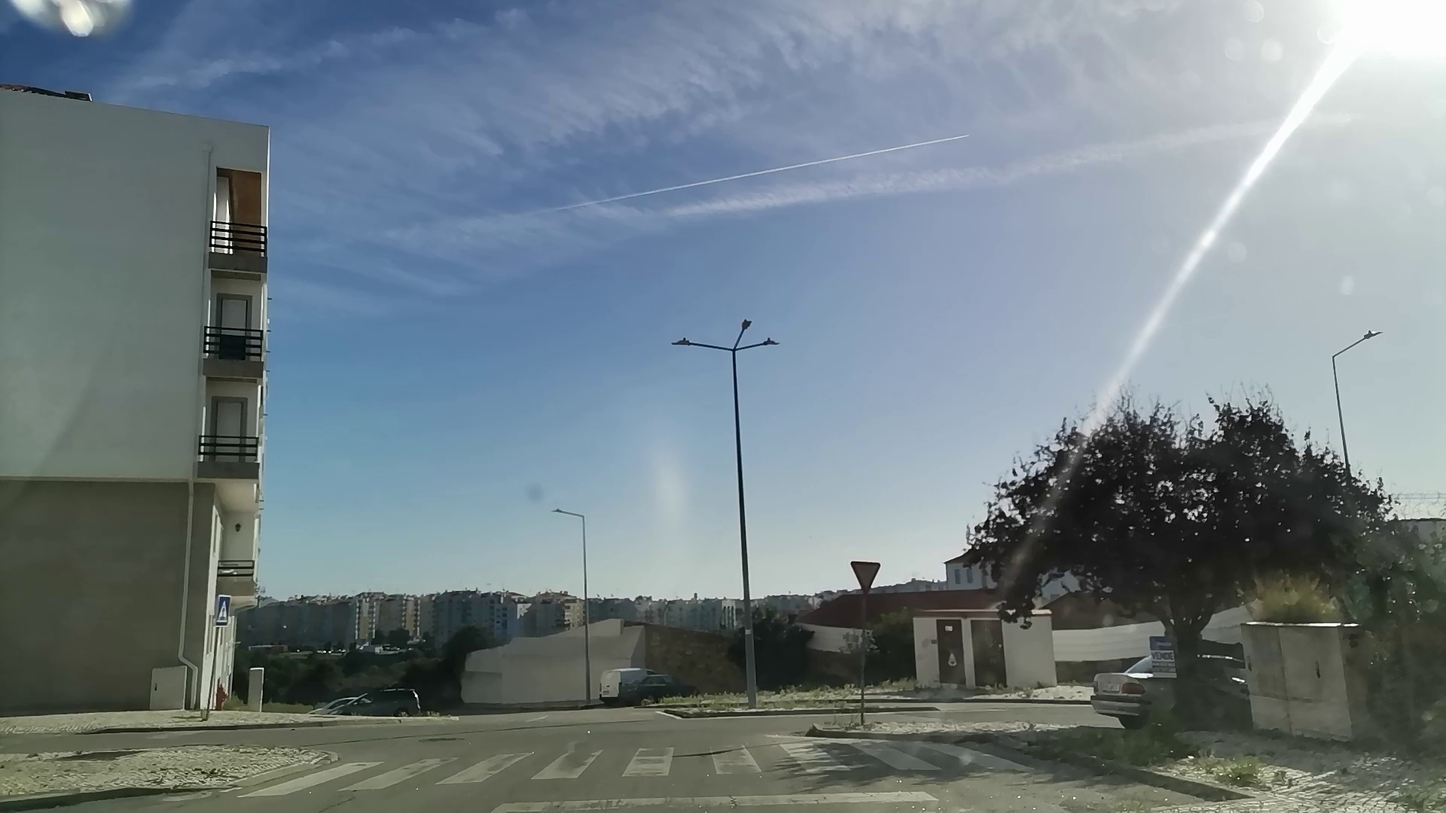Stairs: (244, 736, 1033, 793)
